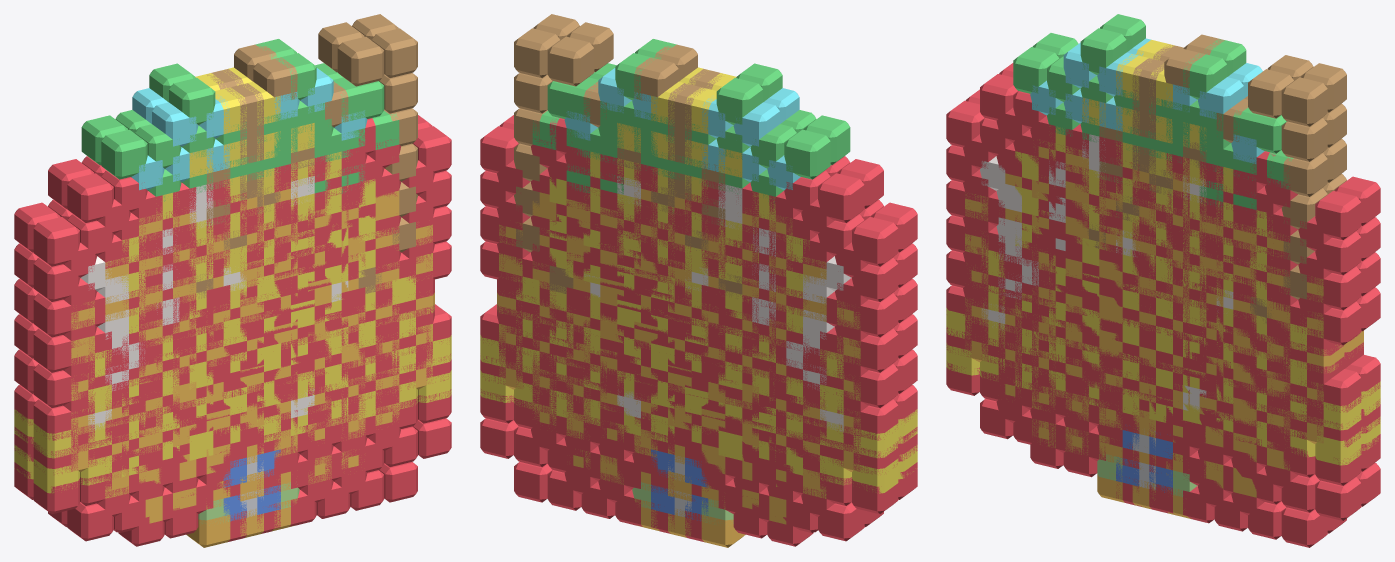
File: Fruits.fbx
3 views of the same model, side by side, from view 1: azimuth 30°, elevation 25°; view 2: azimuth 150°, elevation 25°; view 3: azimuth 330°, elevation 25° (orthographic).
Parts seen in each view (by area): view 1: Fruit_Apple, Fruit_Cherry, Fruit_Strawberry, Fruit_Orange, Fruit_Bell, Fruit_Key, Fruit_Melon; view 2: Fruit_Apple, Fruit_Cherry, Fruit_Strawberry, Fruit_Bell, Fruit_Orange, Fruit_Key, Fruit_Melon; view 3: Fruit_Apple, Fruit_Cherry, Fruit_Orange, Fruit_Strawberry, Fruit_Bell, Fruit_Key, Fruit_Melon.
Part boxes in pixels (<box>): Fruit_Apple: <box>63,69,434,546</box>; Fruit_Cherry: <box>14,14,451,541</box>; Fruit_Strawberry: <box>14,39,451,541</box>; Fruit_Orange: <box>71,44,434,547</box>; Fruit_Bell: <box>14,67,451,521</box>; Fruit_Key: <box>131,68,367,517</box>; Fruit_Melon: <box>198,482,299,525</box>; Fruit_Apple: <box>497,69,868,546</box>; Fruit_Cherry: <box>480,14,917,541</box>; Fruit_Strawberry: <box>480,39,917,541</box>; Fruit_Bell: <box>480,67,917,521</box>; Fruit_Orange: <box>497,44,860,547</box>; Fruit_Key: <box>564,68,800,516</box>; Fruit_Melon: <box>632,482,733,524</box>; Fruit_Apple: <box>963,44,1363,515</box>; Fruit_Cherry: <box>946,55,1380,547</box>; Fruit_Orange: <box>965,34,1363,519</box>; Fruit_Strawberry: <box>946,14,1380,513</box>; Fruit_Bell: <box>946,39,1380,493</box>; Fruit_Key: <box>1030,38,1264,489</box>; Fruit_Melon: <box>1097,454,1197,497</box>.
Size of the model in its own units: 0.855 by 0.9264 by 0.1407.
